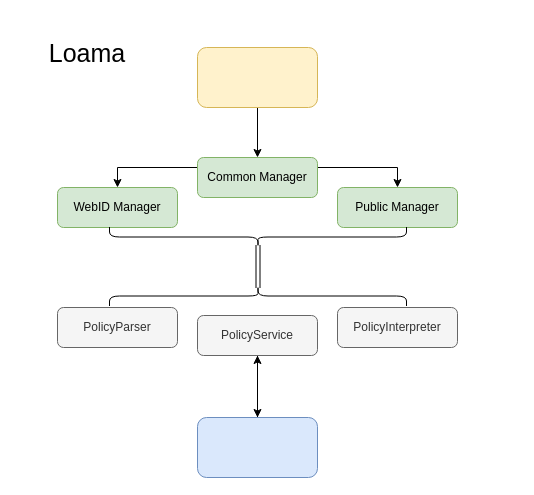
Some shapes in this 534 by 495 pixel diagram are drawn without their labels. Each missing label, with the centre of its shape:
"Controller" goes at pixel 257 77.
"UMA AS-server" goes at pixel 257 447.
